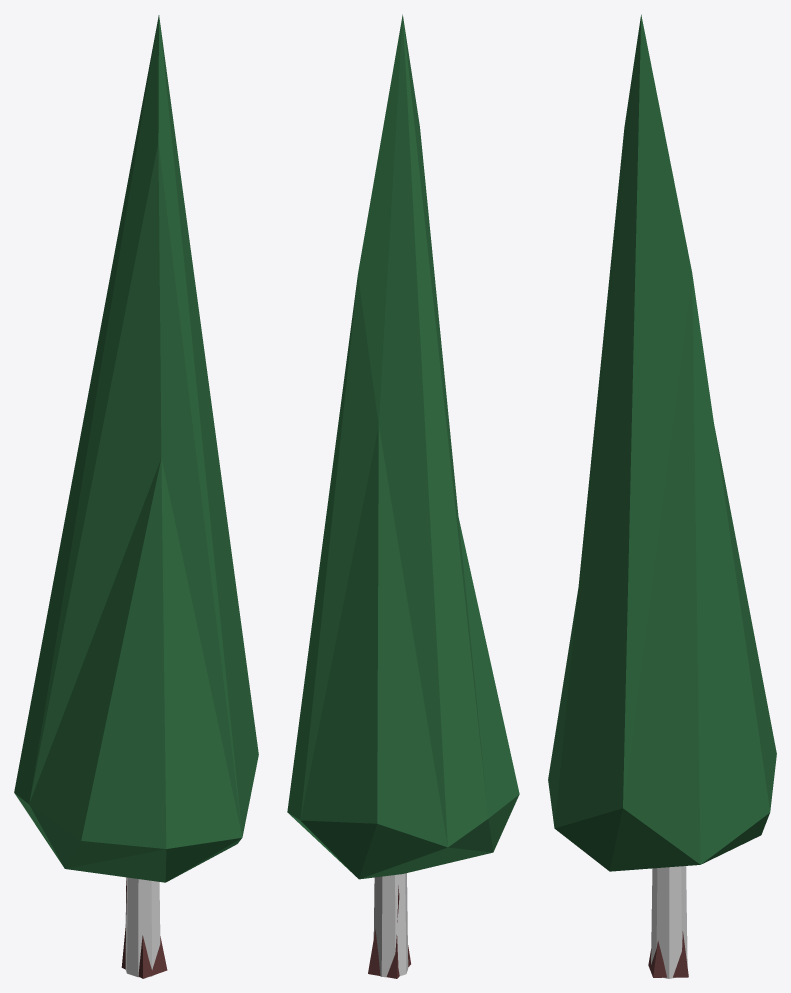
File: floresta_tree_cypress_small.glb
3 views of the same model, side by side, from view 1: azimuth 30°, elevation 25°; view 2: azimuth 150°, elevation 25°; view 3: azimuth 270°, elevation 25° (orthographic). The views are drawn at different scales.
Parts seen in each view (by area): view 1: Cypress small f, Colisao; view 2: Cypress small f, Colisao; view 3: Cypress small f, Colisao.
Part boxes in pixels (x1,y1,x2,y2): Cypress small f: (14,15,258,978); Colisao: (125,877,160,977); Cypress small f: (287,14,519,978); Colisao: (373,873,408,977); Cypress small f: (548,14,776,977); Colisao: (651,866,687,978).
Bounding box in the file's own units: 2.24 × 10.38 × 2.25.
